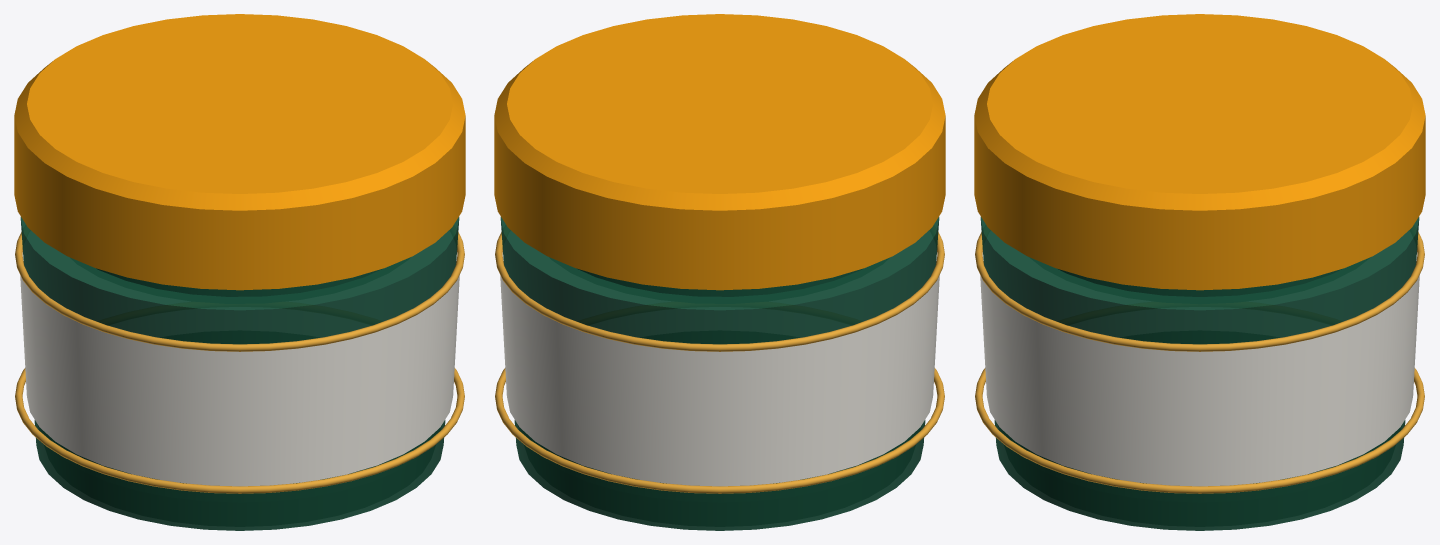
Rendered from bottle.glb.
The picture shows the model from 3 angles, left to right: view 1: azimuth 30°, elevation 25°; view 2: azimuth 150°, elevation 25°; view 3: azimuth 270°, elevation 25°; orthographic projection.
Parts seen in each view (by area): view 1: CosmeticCreamJar; view 2: CosmeticCreamJar; view 3: CosmeticCreamJar.
Boxes of the visible parts, <box> form: CosmeticCreamJar: <box>14,14,465,530</box>; CosmeticCreamJar: <box>494,14,945,530</box>; CosmeticCreamJar: <box>974,14,1425,530</box>.
Bounding box in the file's own units: 1.44 × 1.2 × 1.44.
